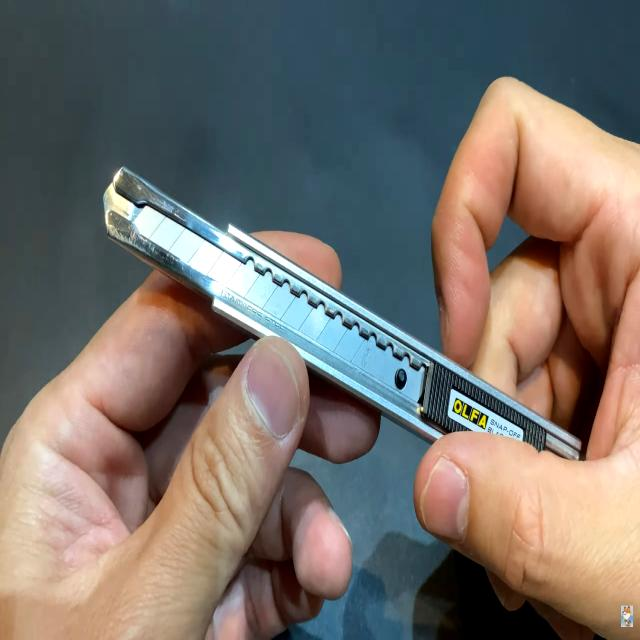cutter: (74, 29, 640, 594)
